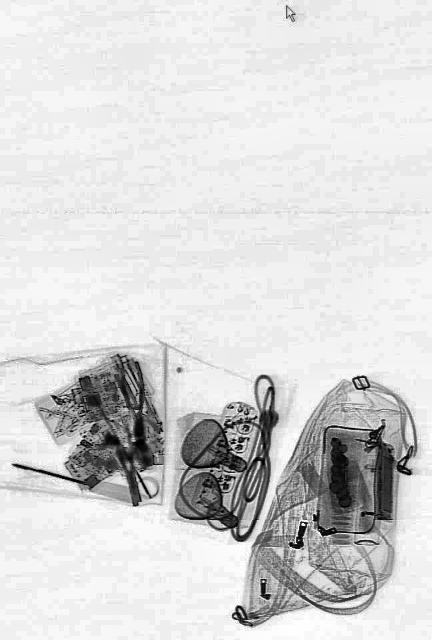Pliers: (117, 359, 153, 451)
